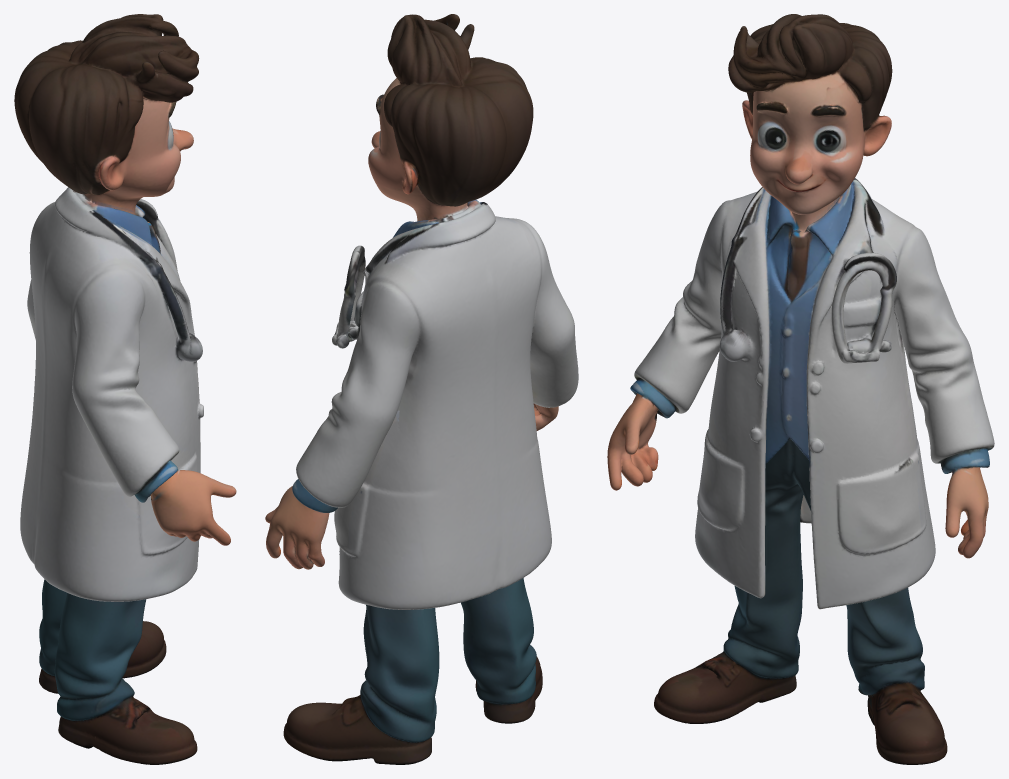
The model's file is DOCTOR 2.glb.
The picture shows the model from 3 angles, left to right: view 1: azimuth 30°, elevation 25°; view 2: azimuth 150°, elevation 25°; view 3: azimuth 270°, elevation 25°; orthographic projection. The views are drawn at different scales.
Parts seen in each view (by area): view 1: tripo_node_c00bf9ef-c06c-428a-b5f6-133dfb6d94eb; view 2: tripo_node_c00bf9ef-c06c-428a-b5f6-133dfb6d94eb; view 3: tripo_node_c00bf9ef-c06c-428a-b5f6-133dfb6d94eb.
Boxes of the visible parts, <box> form: tripo_node_c00bf9ef-c06c-428a-b5f6-133dfb6d94eb: <box>14,14,236,764</box>; tripo_node_c00bf9ef-c06c-428a-b5f6-133dfb6d94eb: <box>265,14,578,764</box>; tripo_node_c00bf9ef-c06c-428a-b5f6-133dfb6d94eb: <box>607,14,994,764</box>.
Bounding box in the file's own units: 0.2825 × 1 × 0.4884.
Materials: 1 (1 with a texture image).
